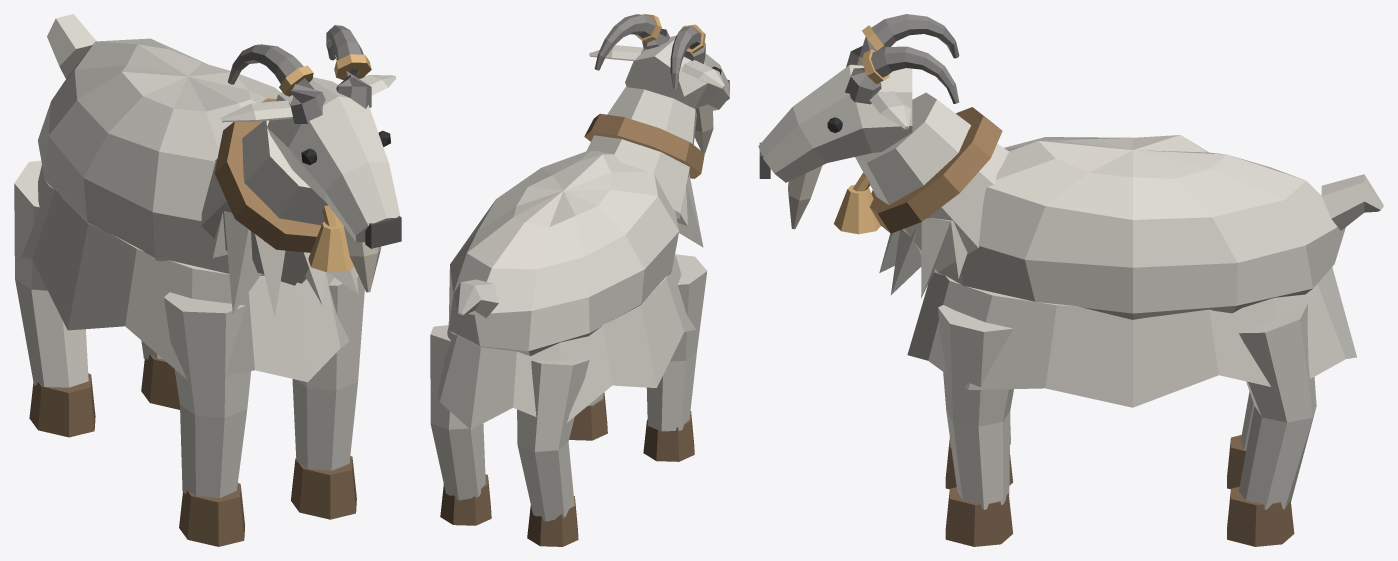
The model's file is cr-goat.glb.
3 views of the same model, side by side, from view 1: azimuth 30°, elevation 25°; view 2: azimuth 150°, elevation 25°; view 3: azimuth 270°, elevation 25° (orthographic). The views are drawn at different scales.
Visible parts, largest first — view 1: body, fur_fringe, leg_fr, head, leg_fl, leg_rr, neck, collar, chest_ruff, hoof_fl, hoof_fr, hoof_rr (+10 smaller); view 2: body, fur_fringe, leg_rr, neck, leg_rl, leg_fr, head, collar, hoof_fr, hoof_rr, hoof_rl, horn_l (+7 smaller); view 3: body, fur_fringe, leg_rl, leg_fl, neck, head, collar, chest_ruff, hoof_fl, hoof_rl, horn_l, tail (+5 smaller).
Part boxes in pixels (x1,y1,x2,y2): body: (38, 38, 296, 285); fur_fringe: (22, 165, 349, 382); leg_fr: (164, 292, 251, 498); head: (267, 77, 400, 242); leg_fl: (292, 271, 364, 470); leg_rr: (14, 160, 88, 387); neck: (201, 120, 327, 283); collar: (214, 98, 339, 252); chest_ruff: (213, 211, 358, 318); hoof_fl: (291, 456, 356, 519); hoof_fr: (179, 483, 244, 546); hoof_rr: (29, 373, 95, 437); body: (448, 150, 679, 356); fur_fringe: (437, 254, 695, 429); leg_rr: (517, 359, 589, 521); neck: (586, 87, 696, 223); leg_rl: (430, 325, 485, 500); leg_fr: (646, 254, 707, 431); head: (625, 35, 729, 110); collar: (584, 113, 704, 178); hoof_fr: (643, 411, 694, 461); hoof_rr: (527, 496, 578, 546); hoof_rl: (440, 474, 491, 525); horn_l: (594, 14, 669, 70); body: (934, 135, 1345, 319); fur_fringe: (907, 267, 1356, 407); leg_rl: (1239, 303, 1316, 509); leg_fl: (938, 305, 1013, 509); neck: (855, 92, 1009, 272); head: (758, 64, 912, 182); collar: (870, 107, 1002, 233); chest_ruff: (879, 218, 967, 298); hoof_fl: (945, 487, 1013, 546); hoof_rl: (1227, 486, 1294, 546); horn_l: (845, 46, 959, 104); tail: (1321, 174, 1383, 230).
Size of what is drawn, in the model's own units: 0.4709 by 0.9544 by 1.13.
